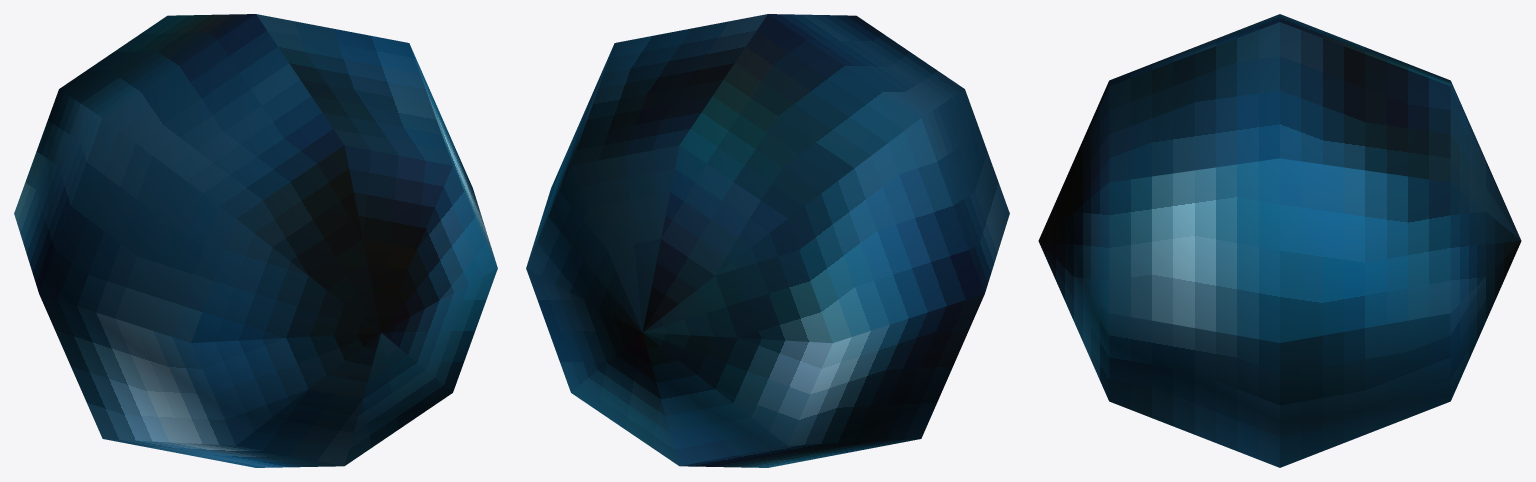
File: Gem12.glb
The picture shows the model from 3 angles, left to right: view 1: azimuth 30°, elevation 25°; view 2: azimuth 150°, elevation 25°; view 3: azimuth 270°, elevation 25°; orthographic projection. The views are drawn at different scales.
Visible parts, largest first — view 1: model_Gem12; view 2: model_Gem12; view 3: model_Gem12.
Part boxes in pixels (x1,y1,x2,y2): model_Gem12: [14, 14, 497, 467]; model_Gem12: [526, 14, 1009, 467]; model_Gem12: [1038, 14, 1521, 467].
Size of the model in its own units: 0.2852 by 0.2852 by 0.2852.
1 material, 1 textured.
